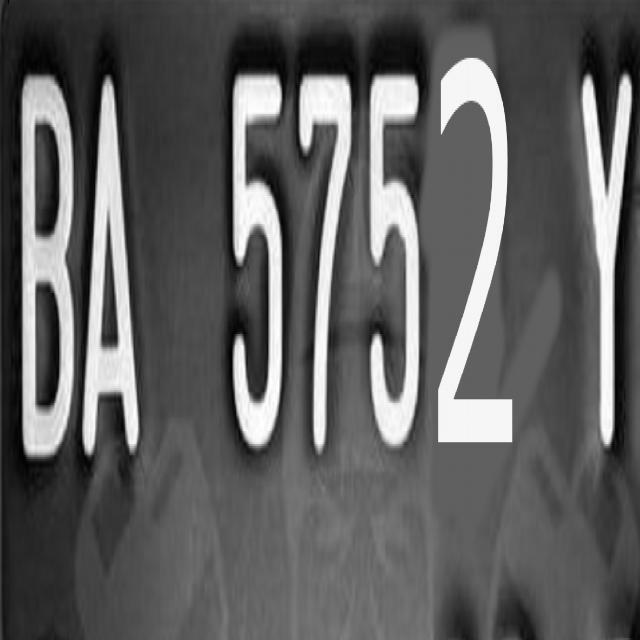2: (430, 45, 520, 476)
5: (356, 66, 434, 458), (225, 60, 292, 458)
7: (290, 58, 354, 468)
A: (76, 74, 156, 464)
B: (7, 68, 84, 461)
Y: (570, 68, 640, 460)
